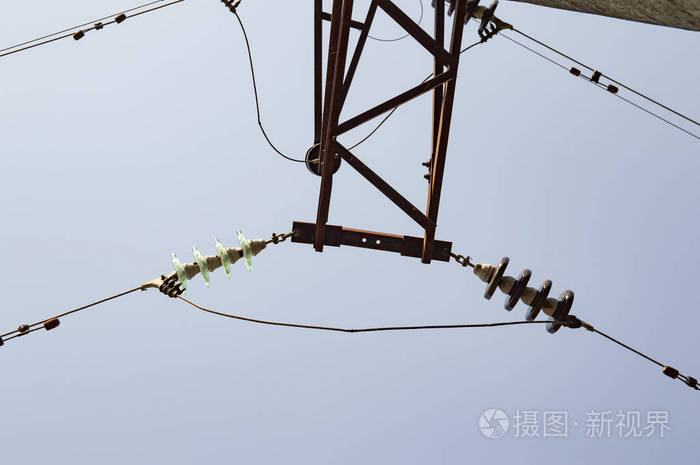insulator: (482, 257, 573, 334), (170, 228, 257, 296)
